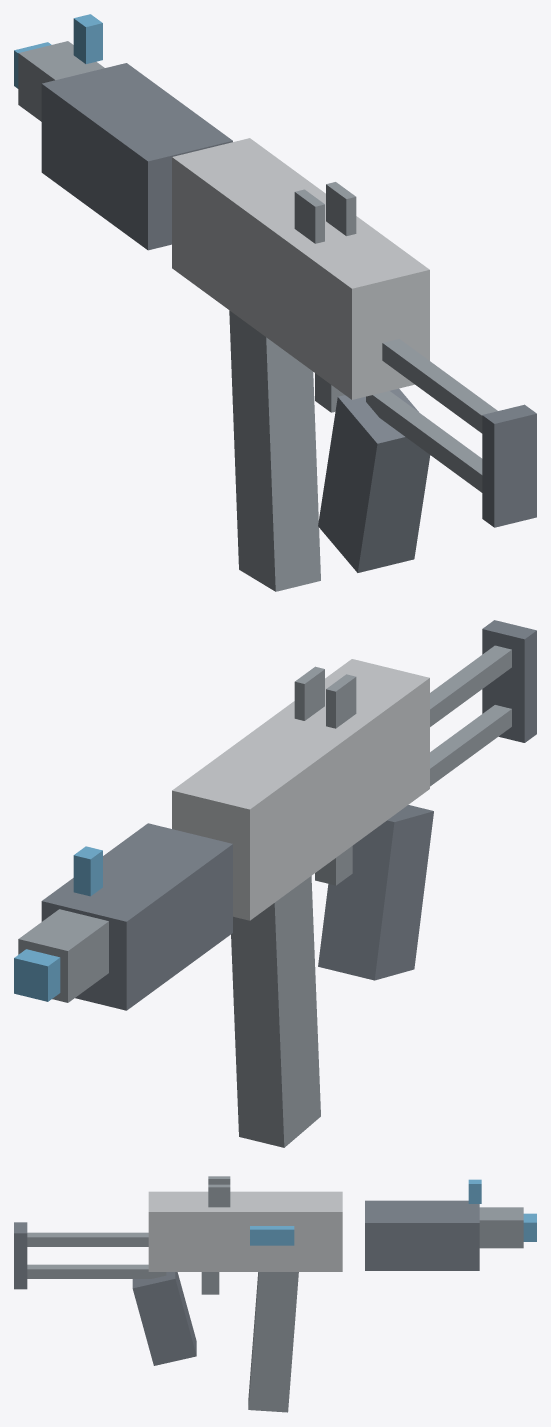
The model's file is smg_frost.glb.
3 views of the same model, one above another, from view 1: azimuth 30°, elevation 25°; view 2: azimuth 150°, elevation 25°; view 3: azimuth 270°, elevation 25° (orthographic). The views are drawn at different scales.
Visible parts, largest first — view 1: weapon.smg.frost; view 2: weapon.smg.frost; view 3: weapon.smg.frost.
Boxes of the visible parts, x1,y1,x2,y2 form: weapon.smg.frost: (14,14,536,591); weapon.smg.frost: (14,620,536,1147); weapon.smg.frost: (14,1176,536,1412).
Size of the model in its own units: 0.067 by 0.2809 by 0.5925.
